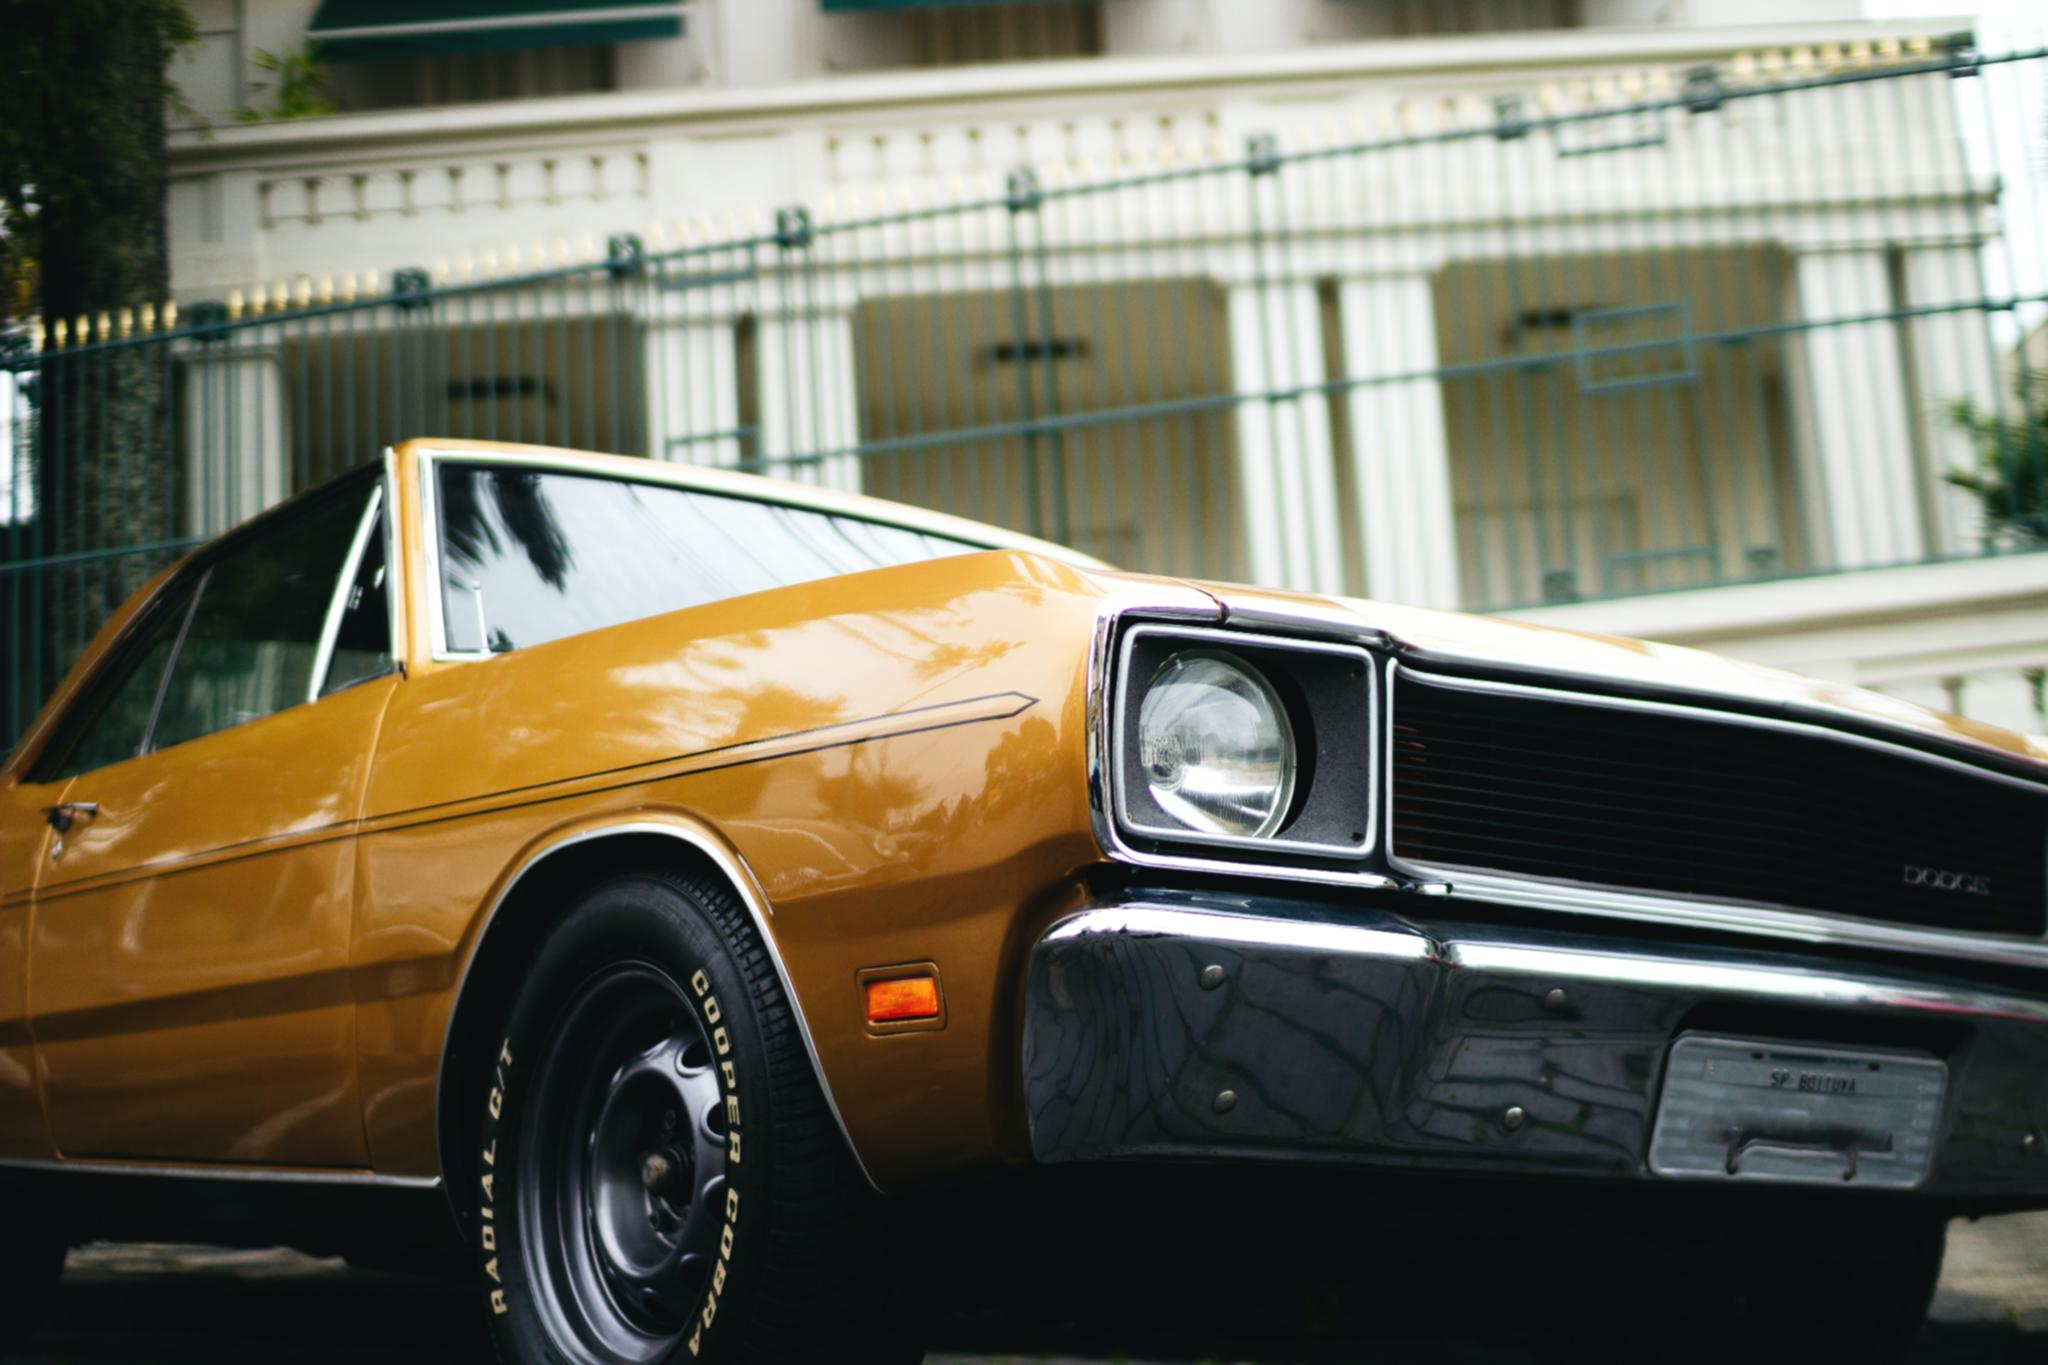dodge: (1882, 847, 2013, 913)
